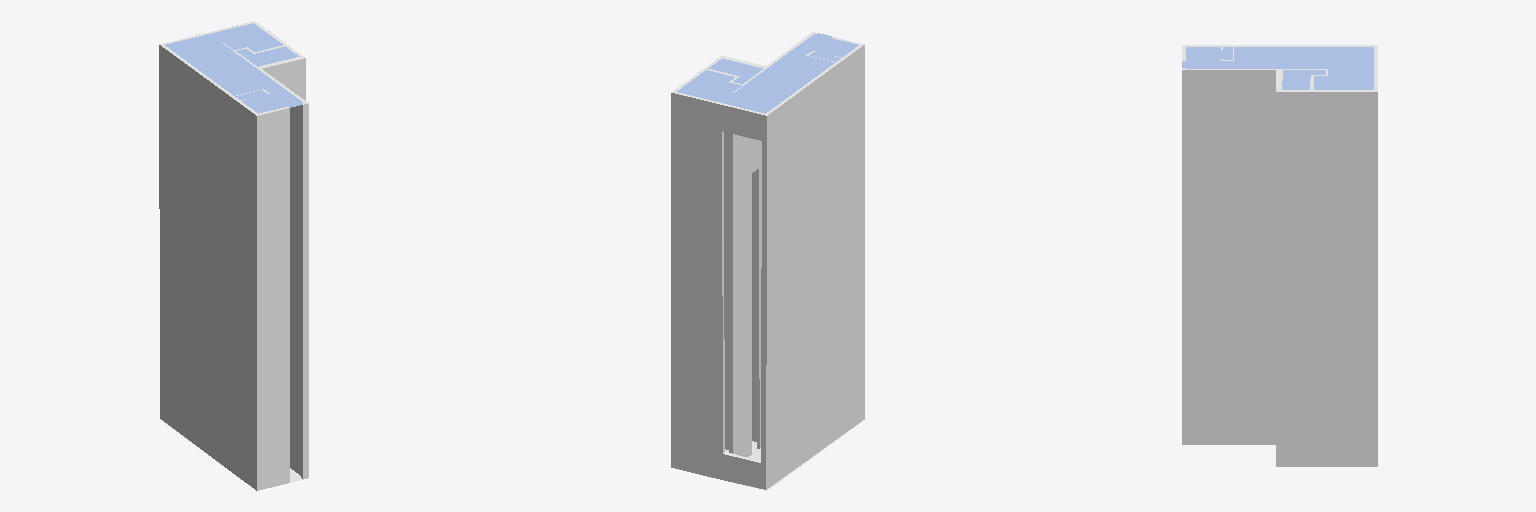
The model's file is appt.obj.
The picture shows the model from 3 angles: view 1: azimuth 30°, elevation 25°; view 2: azimuth 150°, elevation 25°; view 3: azimuth 270°, elevation 25°; orthographic projection.
Parts seen in each view (by area): view 1: appt; view 2: appt; view 3: appt.
Boxes of the visible parts, x1=… form: appt: x1=159, y1=21, x2=308, y2=490; appt: x1=671, y1=32, x2=864, y2=490; appt: x1=1182, y1=45, x2=1377, y2=466.
Size of the model in its own units: 7.08 by 26.44 by 12.5.